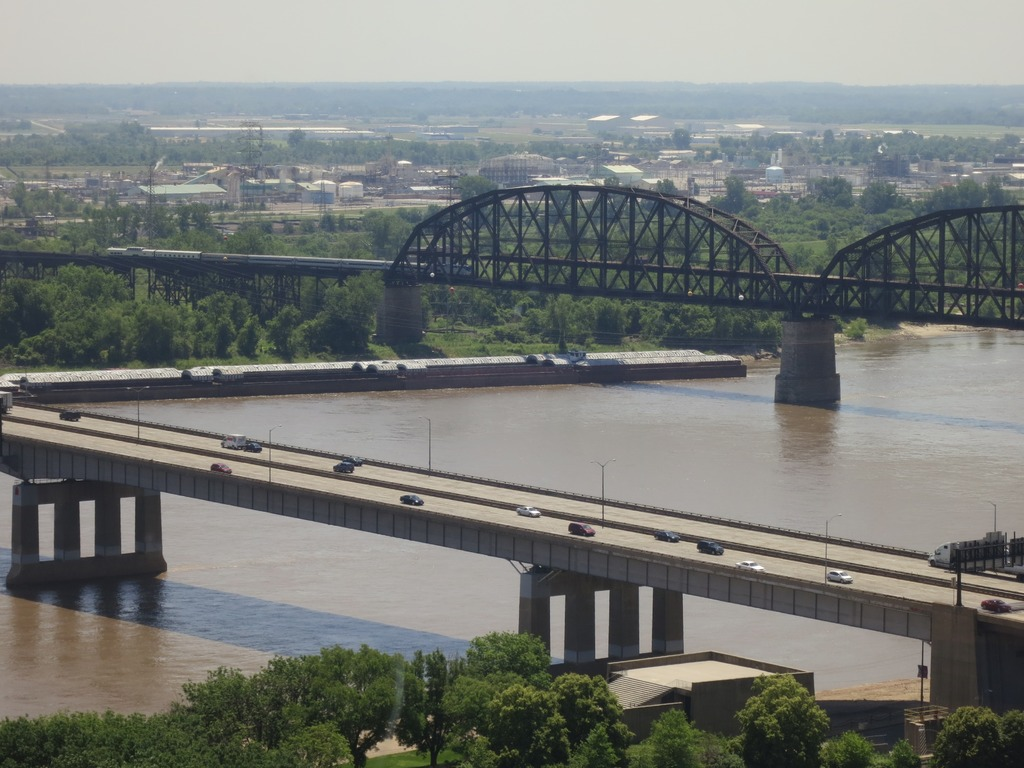Tree: (0, 78, 1024, 367), (0, 631, 1024, 768)
